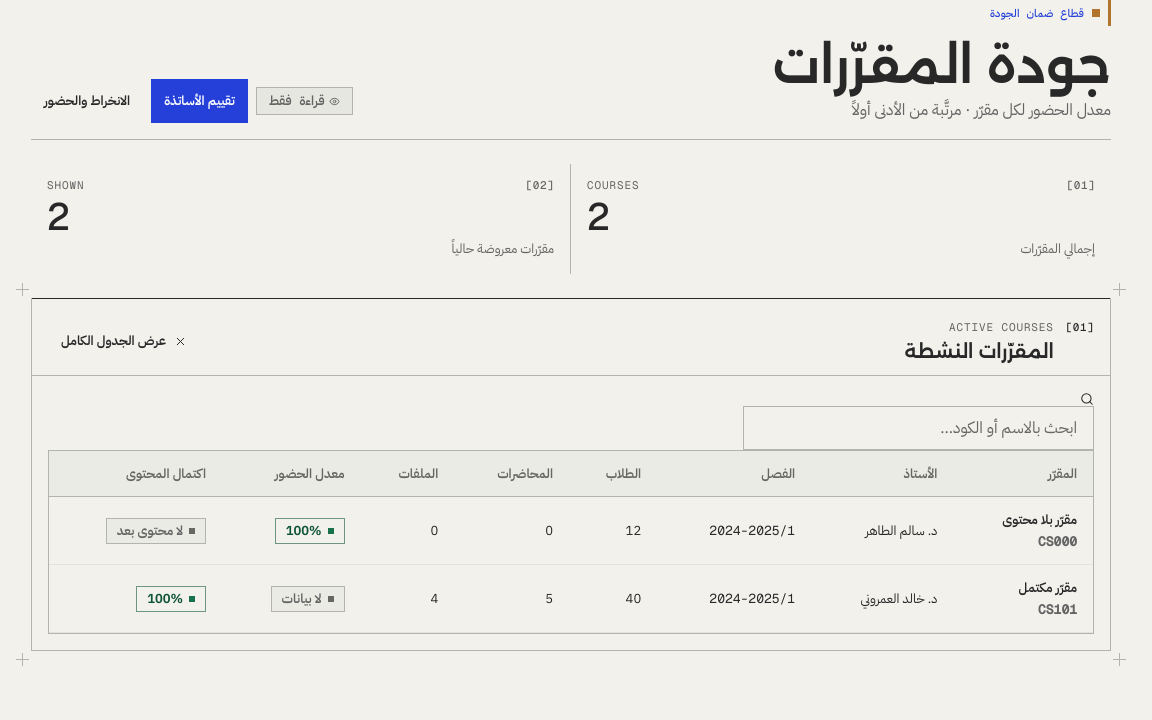
QualityCoursesPage — ?metric= drill-down (5-B4, 5-A8 §5 row 11) › lands pre-filtered: metric column, honest «لا بيانات» for null metrics, reset affordance
Check: the text "مقرّر مكتمل" is shown, box [1019,578,1077,597]
Check: the text "معدل الحضور لكل مقرّر · مرتَّبة من الأدنى أولاً" is shown, box [852,98,1111,122]
Note: The reset affordance returns to the full roster (no metric param).
Click the button "عرض الجدول الكامل": (124, 341) [48,319,200,363]
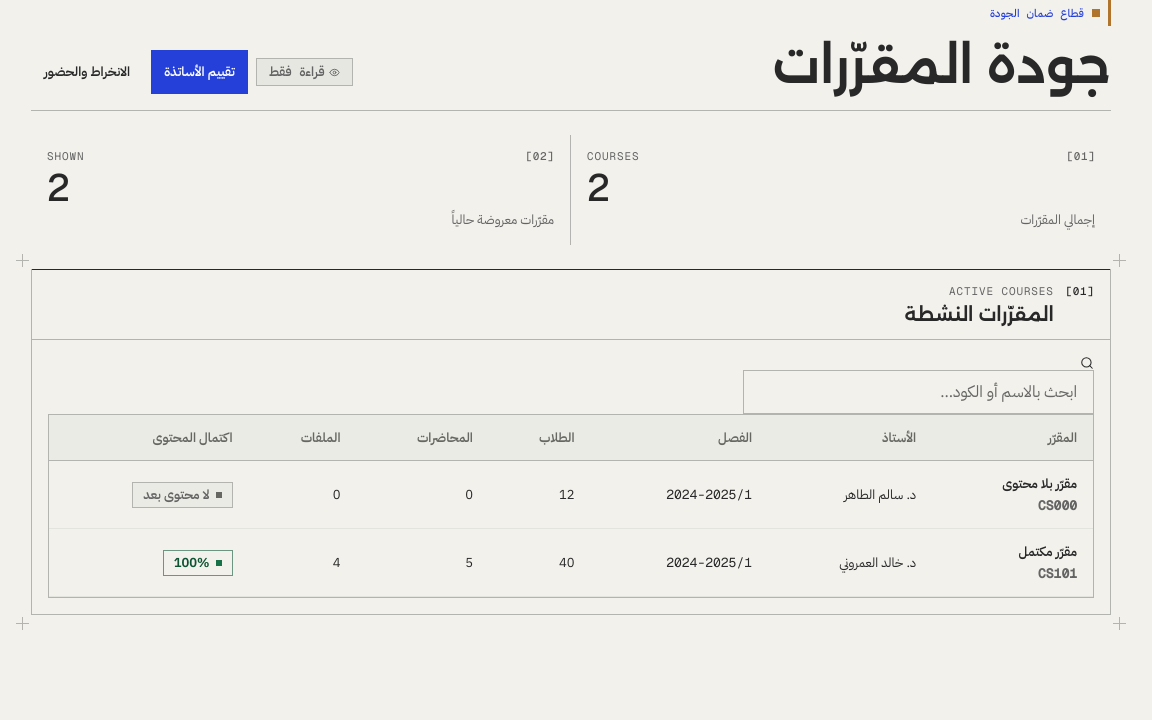
Check: the text "معدل الحضور" is gone
